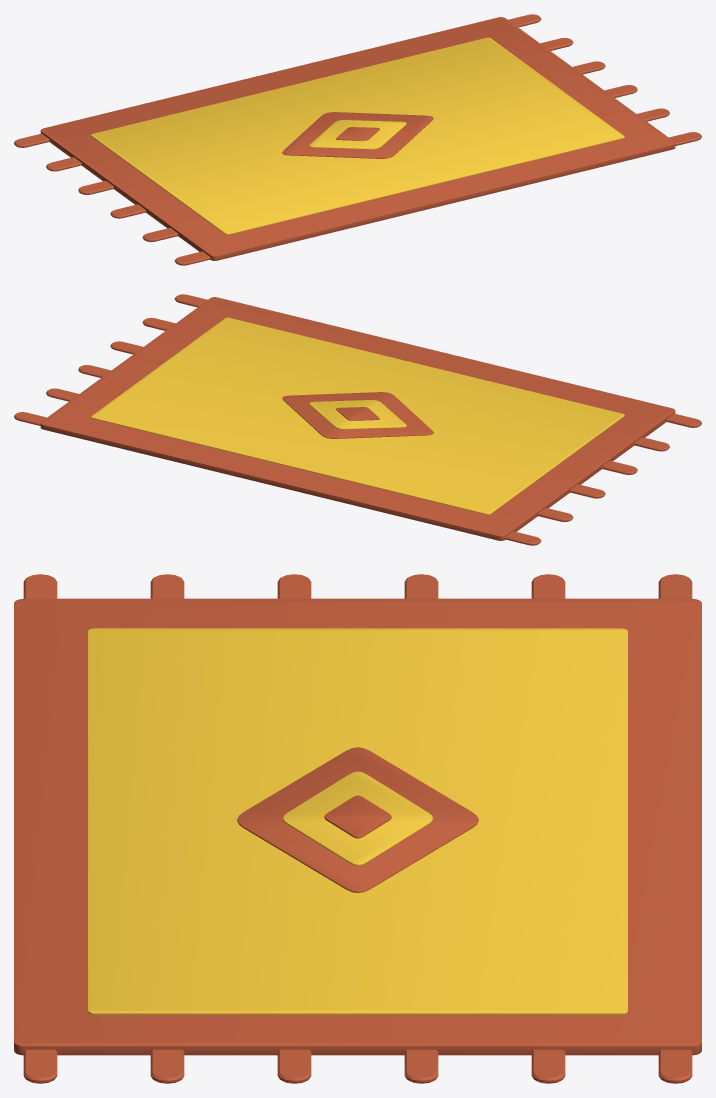
Rendered from tapete_persa_pequeno.glb.
3 renders of one model, top to bottom at view 1: azimuth 30°, elevation 25°; view 2: azimuth 150°, elevation 25°; view 3: azimuth 270°, elevation 25°, orthographic. The views are drawn at different scales.
Visible parts, largest first — view 1: tapete_persa_pequeno; view 2: tapete_persa_pequeno; view 3: tapete_persa_pequeno.
Boxes of the visible parts, x1,y1,x2,y2 form: tapete_persa_pequeno: (14,14,701,265); tapete_persa_pequeno: (14,294,701,545); tapete_persa_pequeno: (14,574,701,1083).
Bounding box in the file's own units: 1.13 × 0.0164 × 0.65.
Materials: 1 (1 with a texture image).
